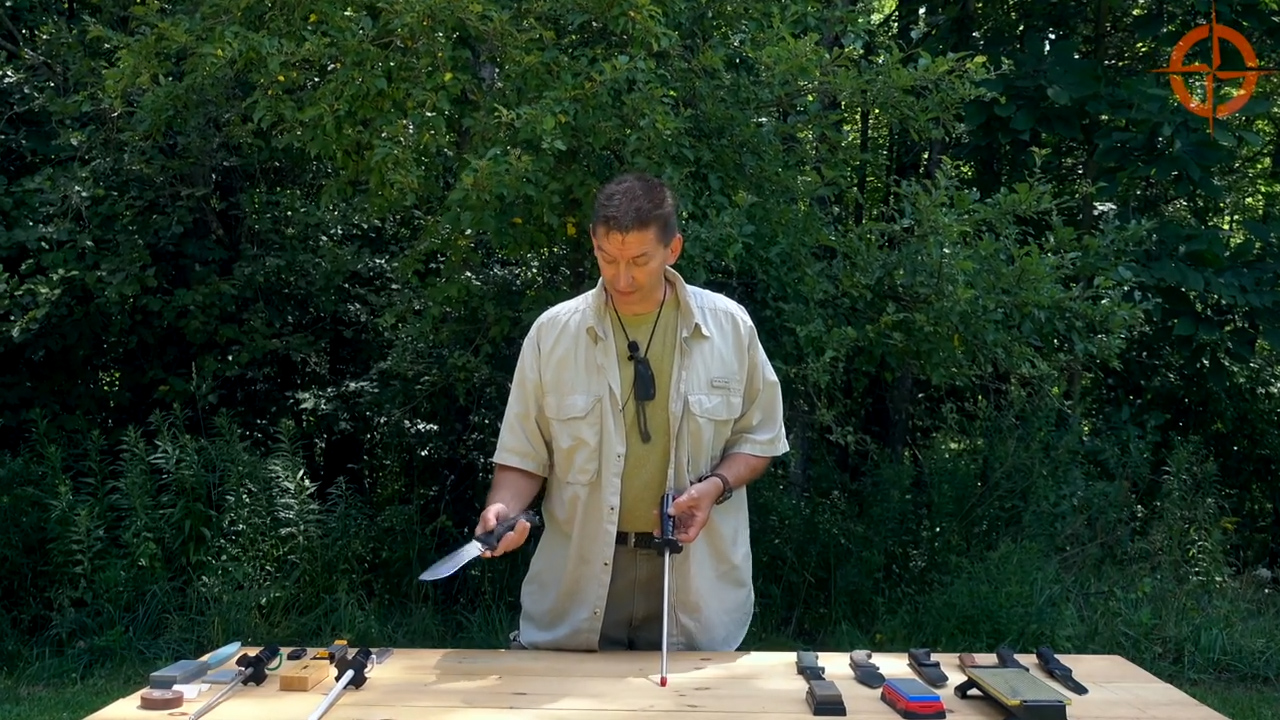knife: (414, 505, 533, 582)
